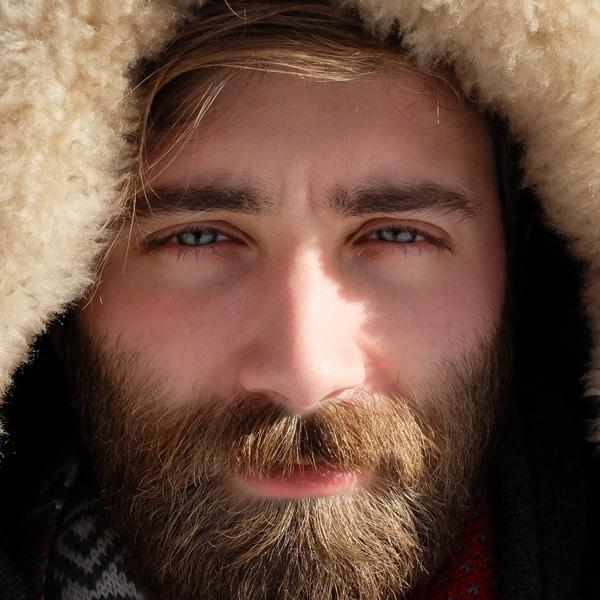Eyes: (135, 206, 255, 271), (334, 205, 454, 268)
